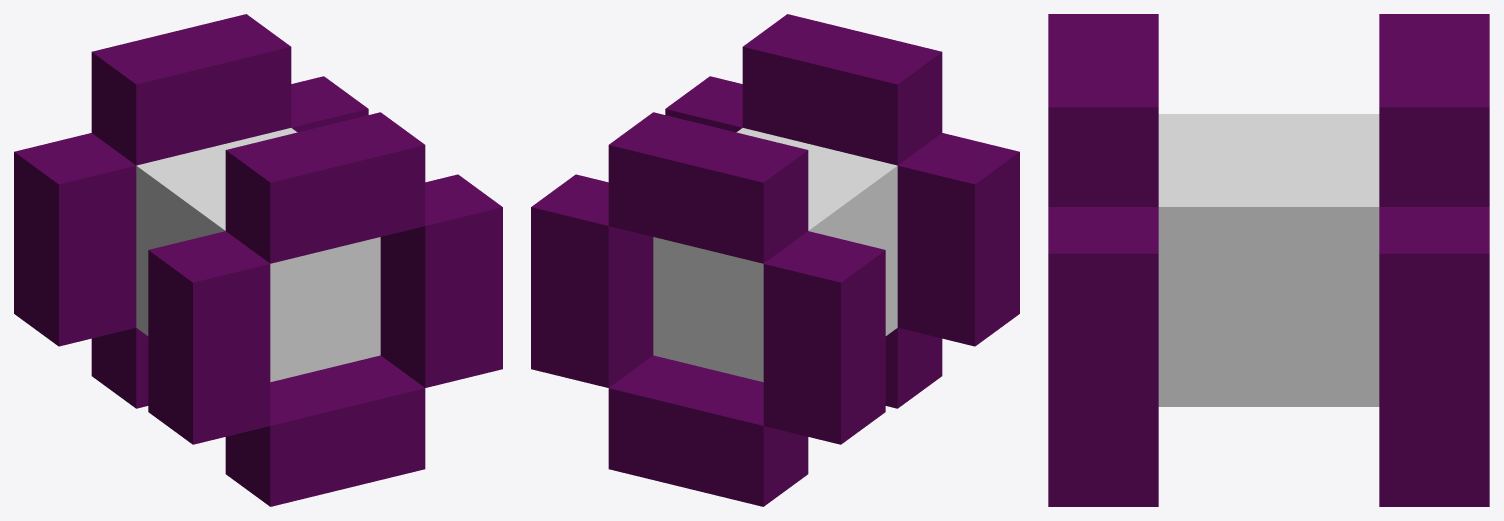
The model's file is cube-reset.glb.
3 views of the same model, side by side, from view 1: azimuth 30°, elevation 25°; view 2: azimuth 150°, elevation 25°; view 3: azimuth 270°, elevation 25° (orthographic). The views are drawn at different scales.
Parts seen in each view (by area): view 1: cube-reset; view 2: cube-reset; view 3: cube-reset.
Boxes of the visible parts, box(x1,y1,x2,y2) form: cube-reset: box(14, 14, 502, 506); cube-reset: box(531, 14, 1019, 506); cube-reset: box(1048, 14, 1489, 506).
Size of the model in its own units: 1 by 1 by 1.
